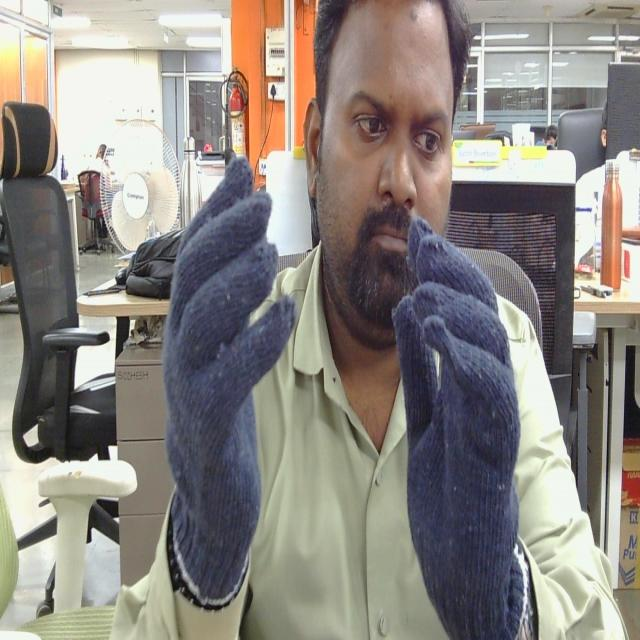Gloves-Detection: (387, 210, 530, 640), (163, 156, 293, 598)
